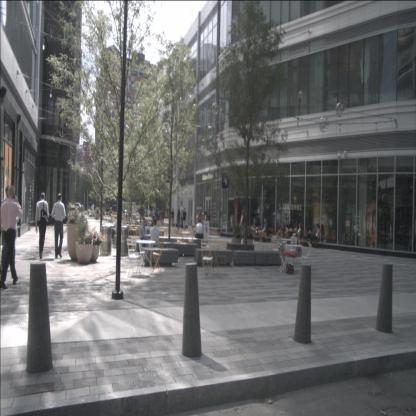human-pedestrian-adult: (0, 185, 23, 291), (0, 185, 16, 274), (35, 192, 49, 259), (52, 193, 66, 259), (139, 217, 152, 255), (150, 218, 161, 259), (307, 223, 321, 245), (291, 223, 303, 245), (195, 218, 204, 247), (239, 210, 246, 244), (195, 210, 203, 239), (204, 207, 211, 239), (260, 216, 268, 243), (112, 215, 120, 242), (317, 224, 325, 245), (276, 227, 284, 248), (251, 217, 259, 238), (286, 220, 292, 245), (154, 205, 160, 226), (182, 208, 187, 230), (180, 205, 184, 229), (177, 208, 181, 231), (171, 208, 175, 229), (162, 207, 166, 226), (151, 208, 155, 226), (92, 202, 95, 215)
vehicle-car: (72, 203, 81, 210)
vehicle-truck: (121, 201, 138, 217)
